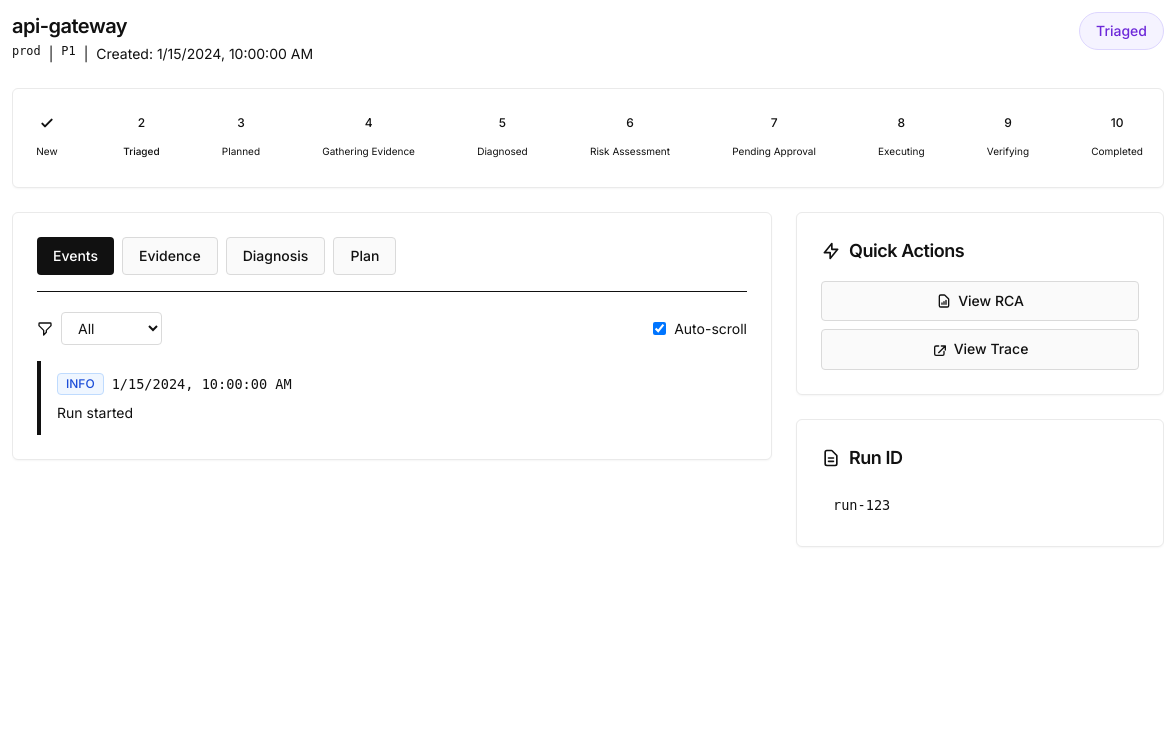
Test case: RunDetailPage › ignores an older artifact response that resolves after a newer refresh
This screenshot has width=1164, height=732.
Expected: the heading "api-gateway" is shown, left=12, top=14, right=127, bottom=38
Click the button "Evidence": (170, 256) left=122, top=237, right=218, bottom=275
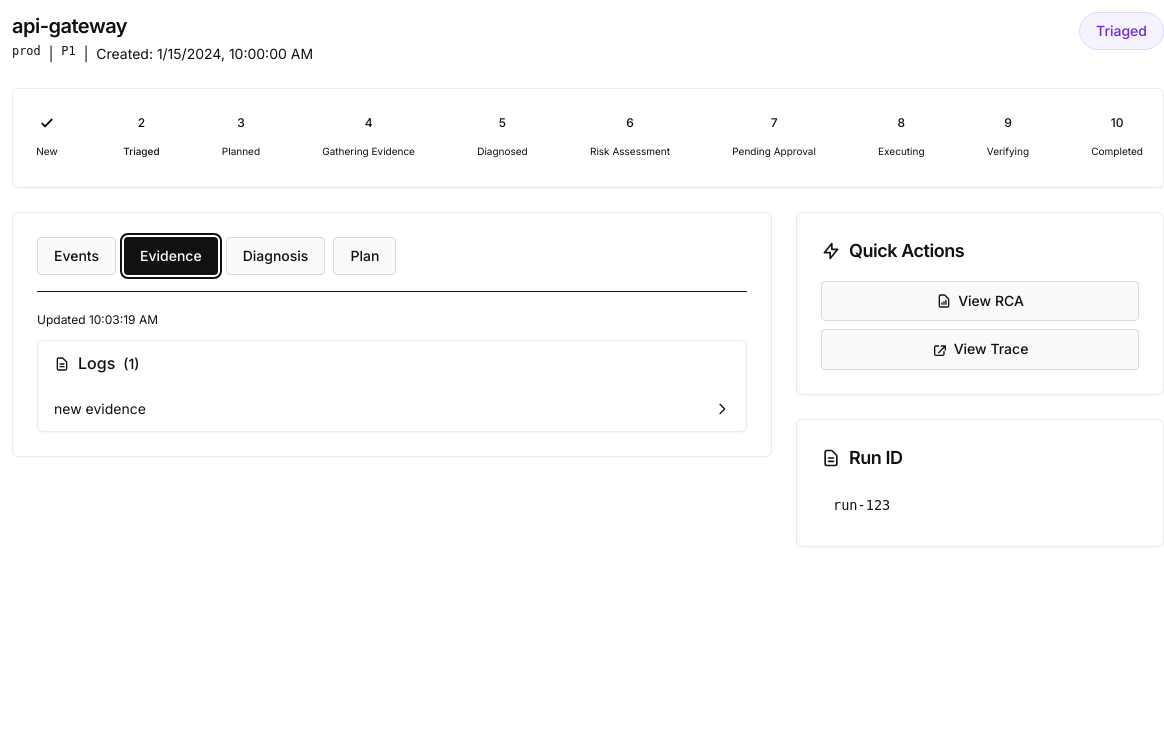
Expected: the text "new evidence" is shown, left=54, top=399, right=146, bottom=419
